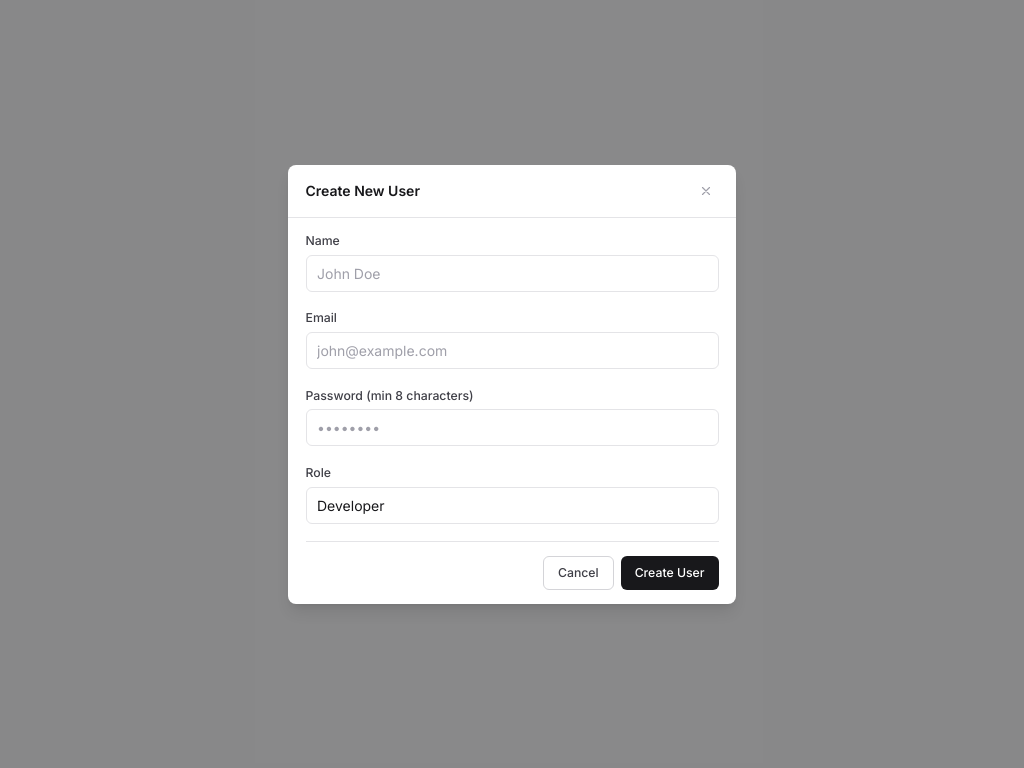
Test: UserFormModal › validates required fields
Step 1. Click the button "Create User" → coordinates (670, 573), box [621,556,718,590]
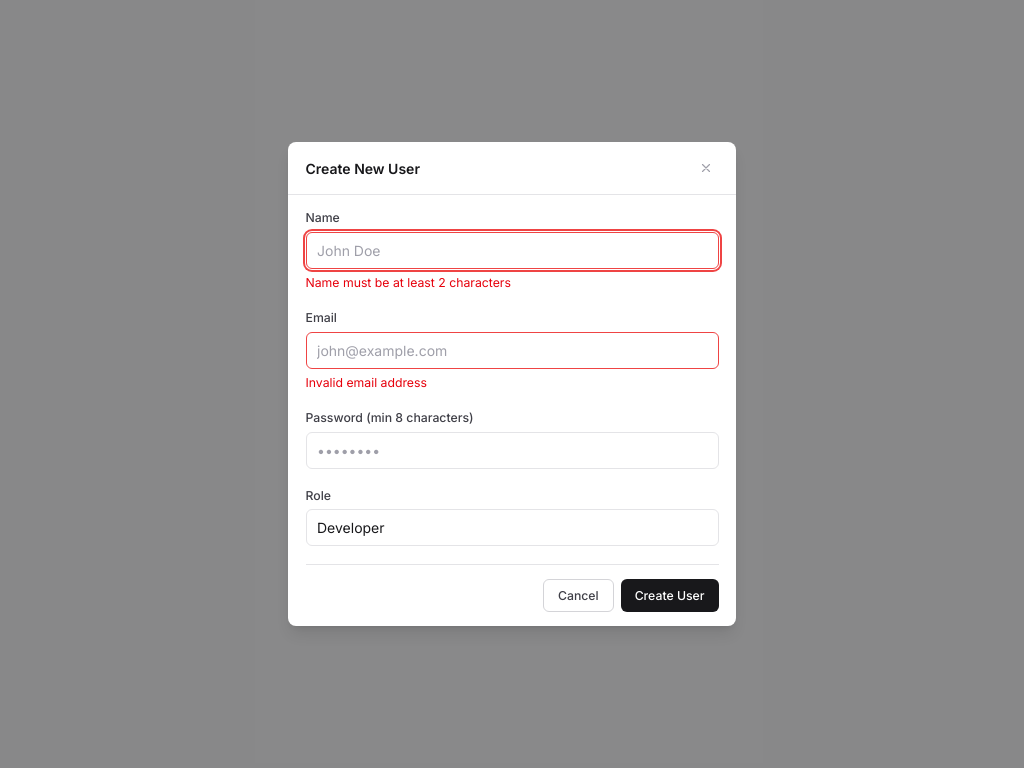
Now the text "Name must be at least 2 characters" is shown, box [306,275,511,290]
Now the text "Invalid email address" is shown, box [306,375,427,390]
